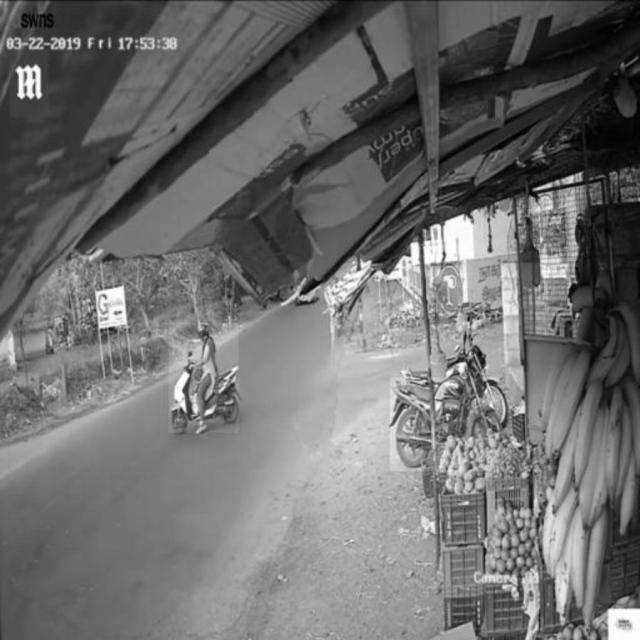vehicle: (391, 378, 499, 471), (169, 323, 239, 433)
